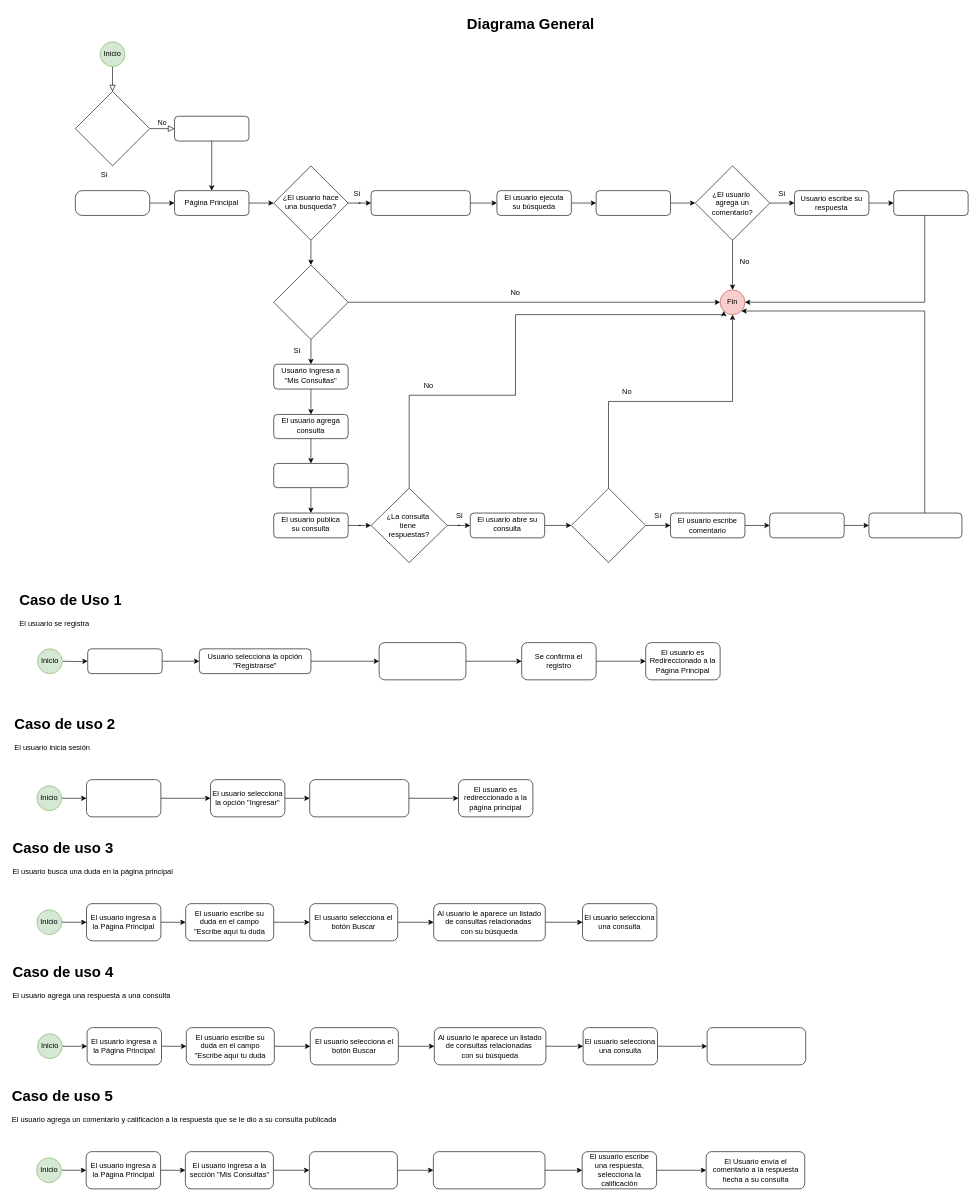
Some shapes in this 979 by 1200 pixel diagram are drawn without their labels. Each missing label, with the centre of its shape:
El usuario agrega comentario y califica la respuesta?: point 608,525
El usuario agrega una respuesta a la consulta seleccionada: point 756,1046
El usuario califica comentario: point 806,525
El usuario captura su: Correo/Nombre de Usuario Contraseña: point 359,798
El usuario da click en el botón de responder a una respuesta.: point 489,1170
El usuario escribe su duda: point 420,202
El usuario ingresa a Pagina principal: point 123,798
El usuario publica su comentario y calificación: point 915,525
El usuario redacta su consulta: point 310,475
El usuario selecciona una consulta.: point 353,1170
Inicia sesión: point 112,202
Registra Usuario: point 211,128
Selecciona una opción: point 633,202
Usuario captura: Nombre de Usuario Correo Contraseña: point 422,661
Usuario Ingresa a Página Princial: point 124,661
Usuario Publica su respuesta: point 930,202
¿El usuario publicará una consulta?: point 310,301
¿El usuario tiene cuenta?: point 112,128
